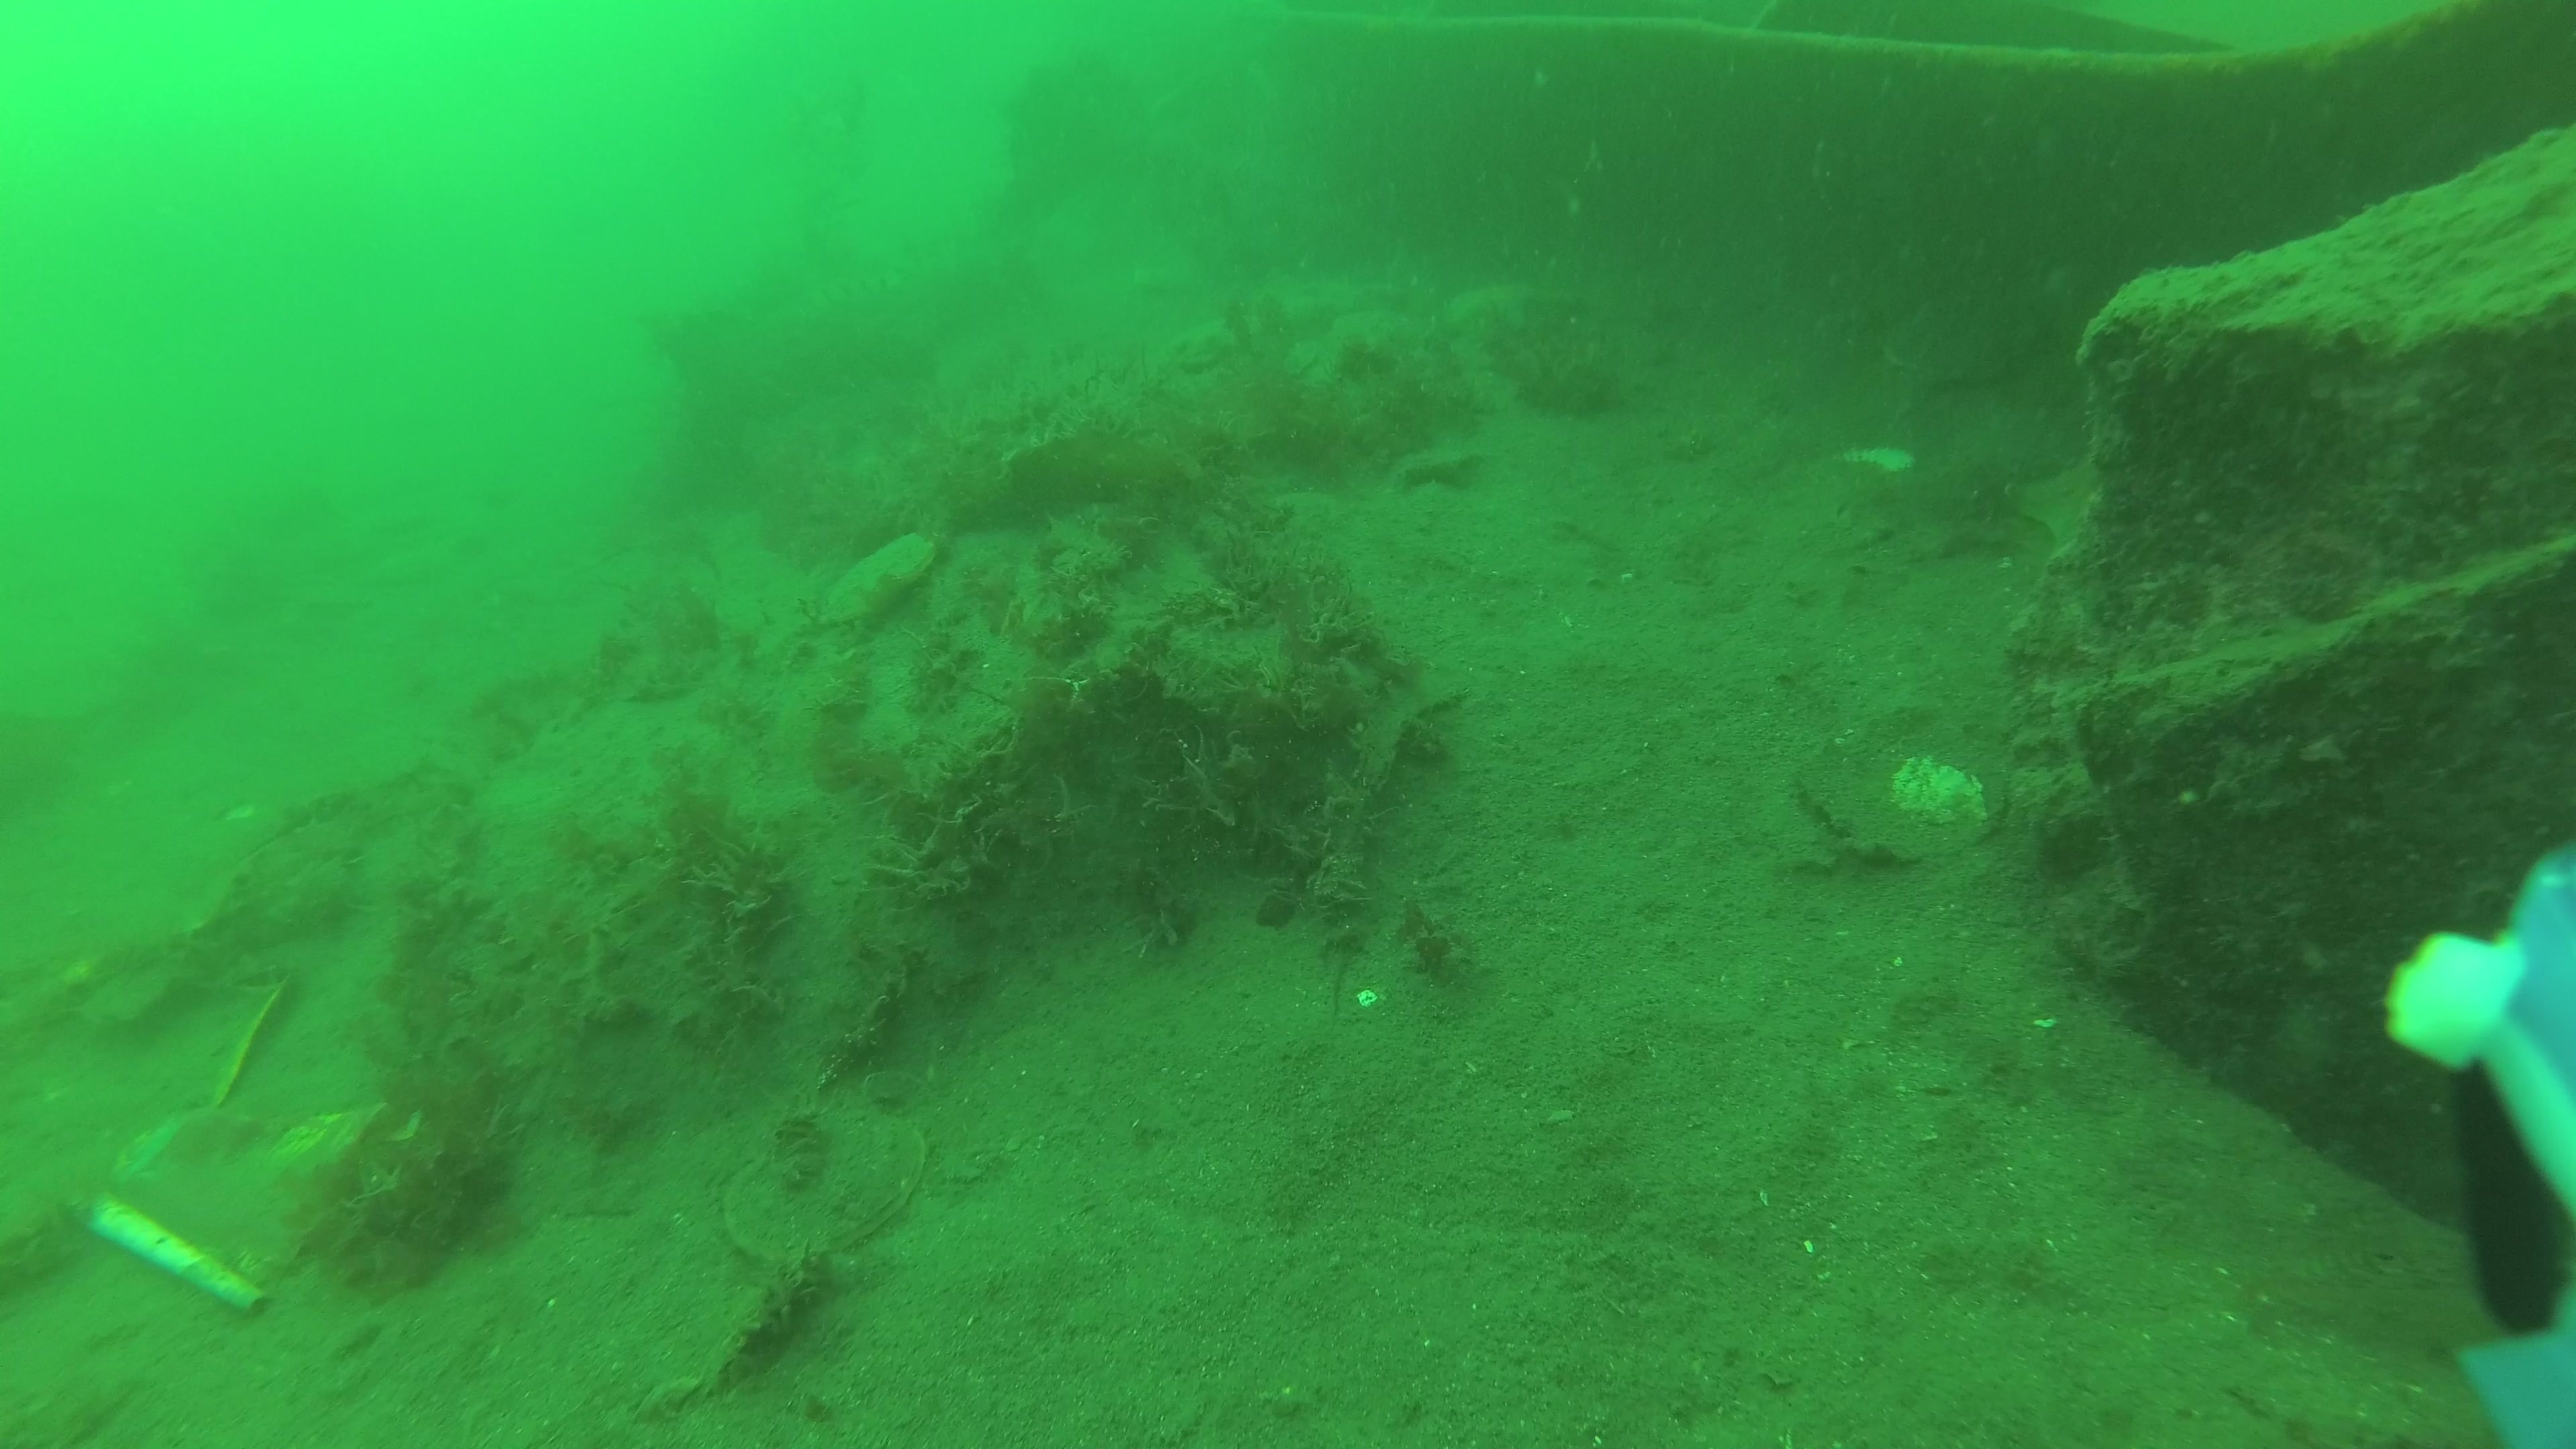scallop: (717, 1123, 932, 1261), (816, 536, 936, 632)
starfish: (1396, 432, 1484, 490)
